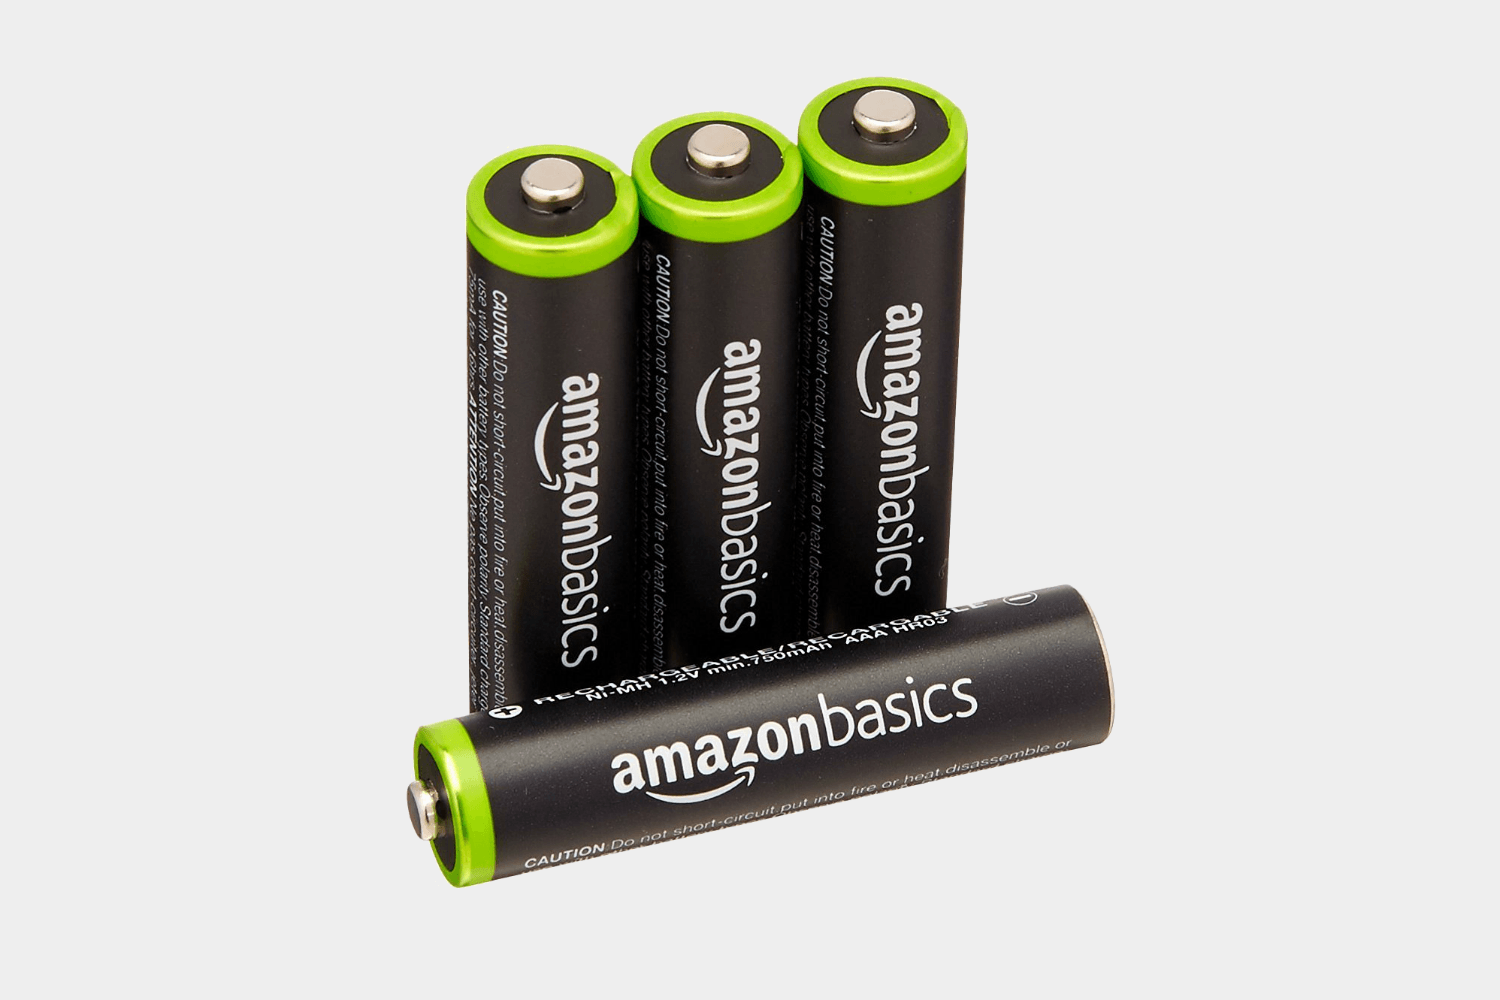Nonrec_Other: (437, 68, 980, 723), (385, 581, 1167, 908)
